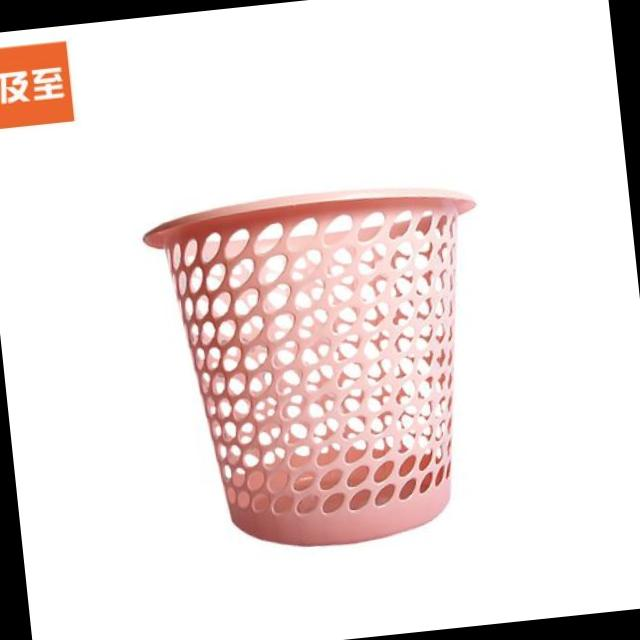dustbin: (128, 168, 516, 571)
